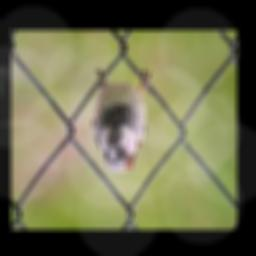Sparrow: (92, 80, 147, 172)
